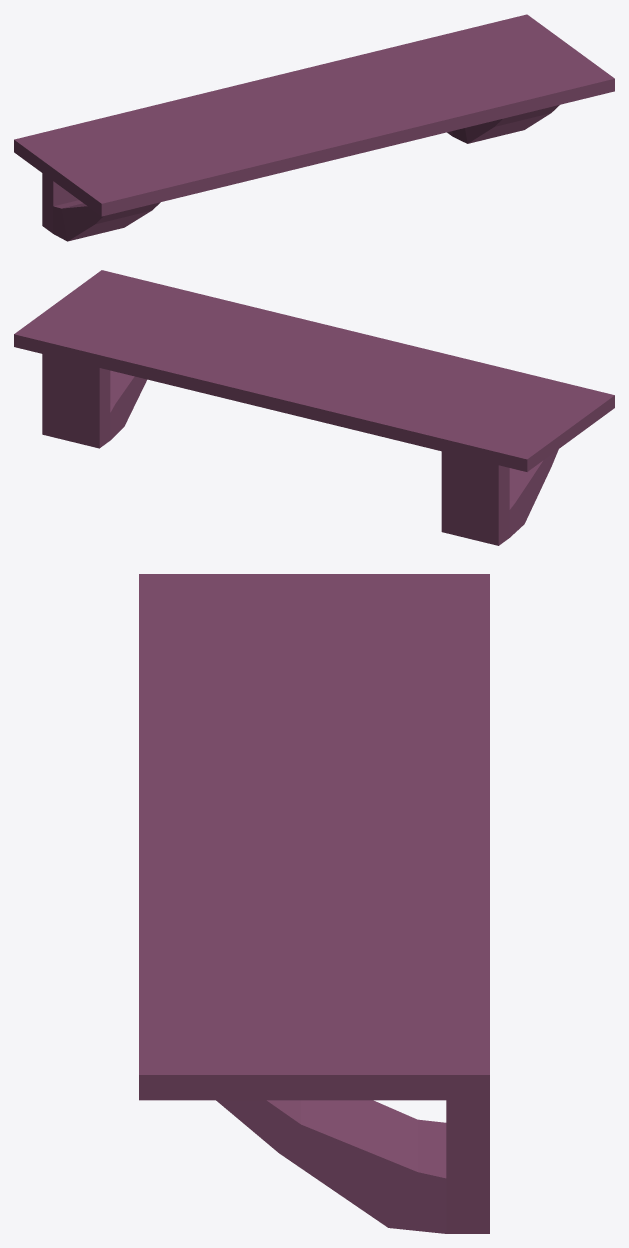
The model's file is ShelfShort.fbx.
The picture shows the model from 3 angles, top to bottom: view 1: azimuth 30°, elevation 25°; view 2: azimuth 150°, elevation 25°; view 3: azimuth 270°, elevation 25°; orthographic projection. The views are drawn at different scales.
Visible parts, largest first — view 1: Shelf1; view 2: Shelf1; view 3: Shelf1.
Part boxes in pixels (x1,y1,x2,y2): Shelf1: (14, 14, 614, 241); Shelf1: (14, 270, 614, 545); Shelf1: (139, 574, 489, 1233).
Size of the model in its own units: 5000 by 16873 by 2936.
